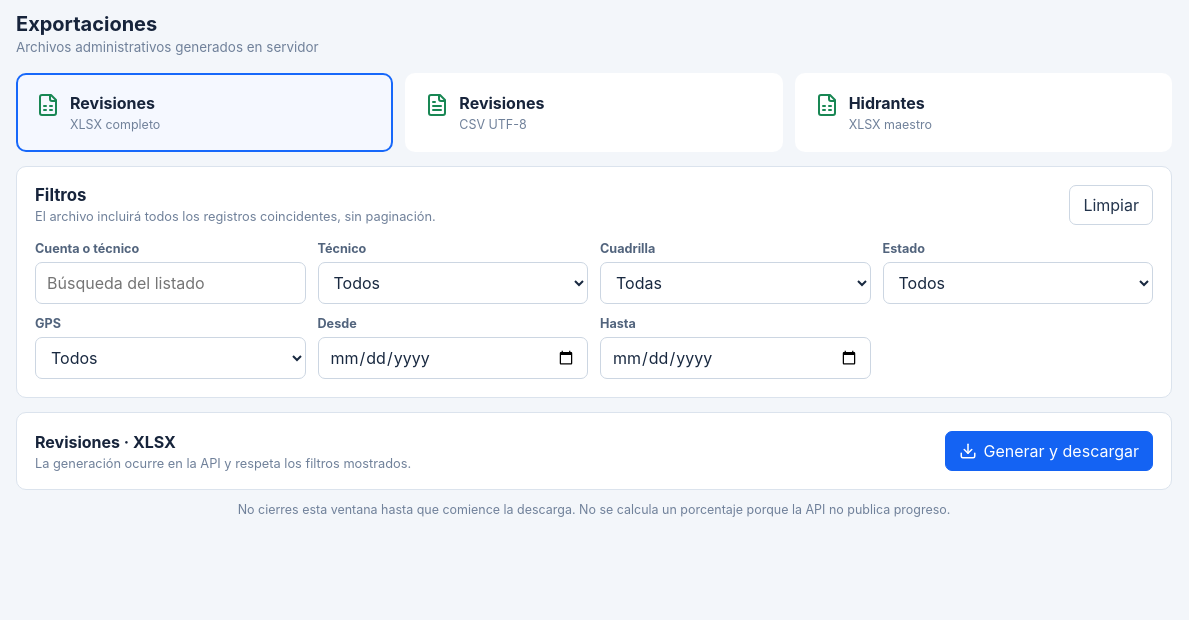
Test case: ExportView › muestra un error comprensible cuando falla la descarga
Click the button "Generar y descargar" at point(1049, 451), box [944, 431, 1153, 471]
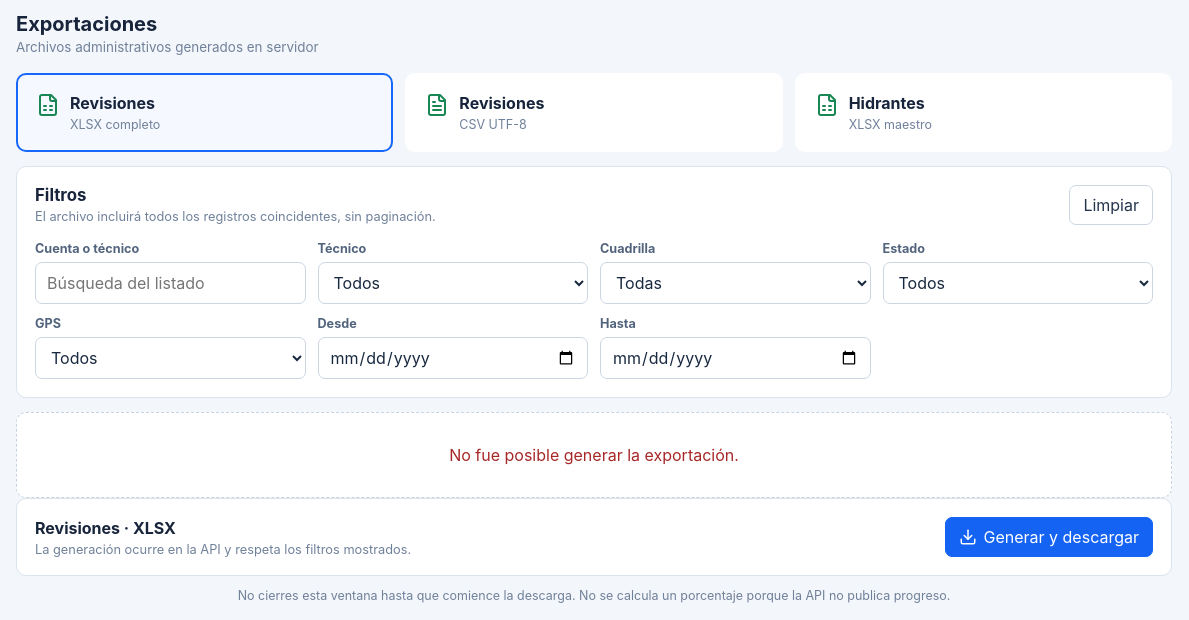
Check: the message "No fue posible generar la exportación." is shown, box [16, 412, 1172, 498]
